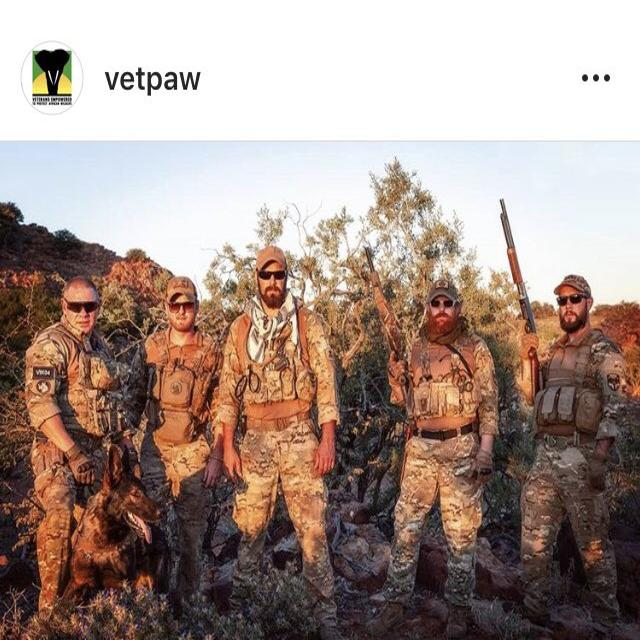dog: (17, 416, 233, 633)
gun: (476, 179, 583, 395), (339, 209, 443, 419)
ranger: (172, 223, 365, 635), (331, 255, 525, 638), (470, 247, 638, 636), (1, 235, 161, 638), (102, 247, 253, 639), (100, 245, 251, 637)
